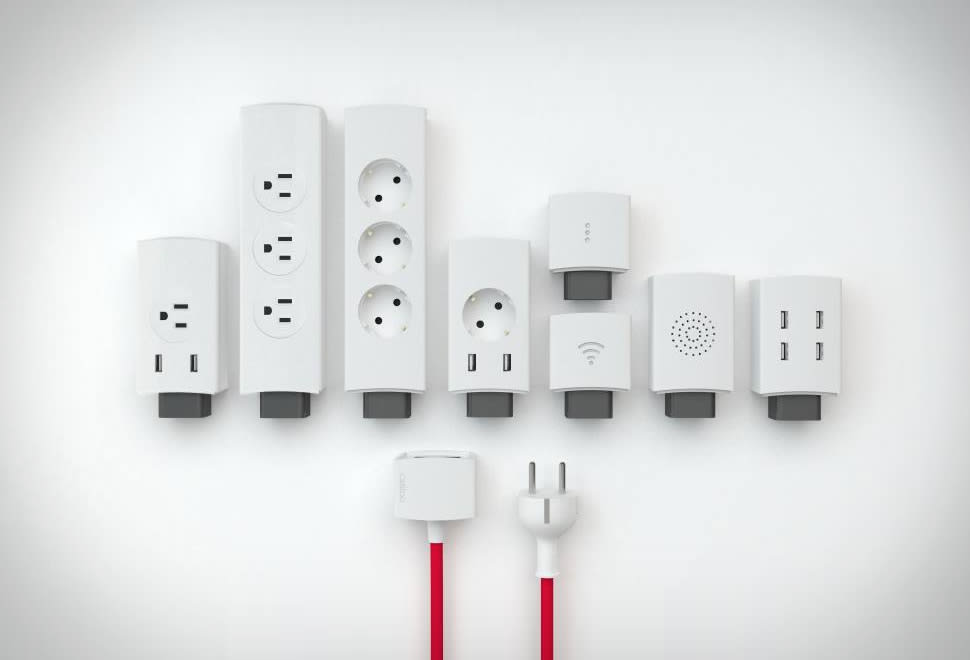Three_eye_plug: (338, 100, 438, 413), (237, 102, 329, 425), (129, 232, 233, 427), (443, 228, 531, 402), (749, 272, 844, 427)
